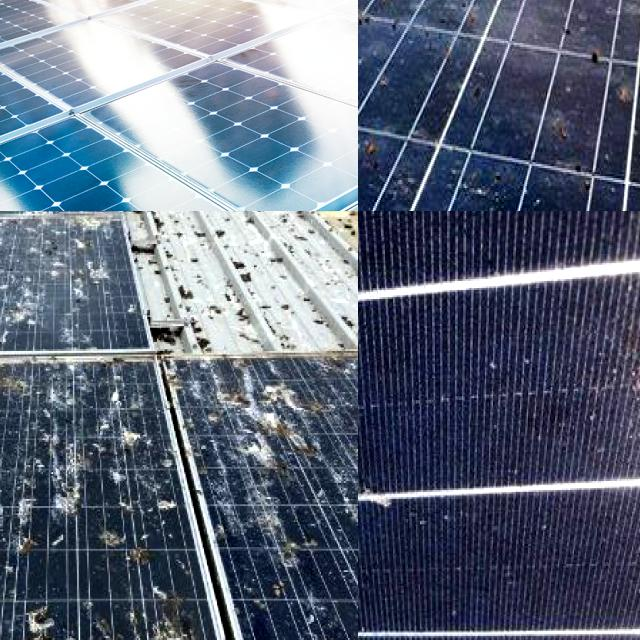bird: (358, 376, 485, 585), (240, 377, 343, 464), (579, 4, 640, 107), (545, 0, 640, 62), (358, 89, 408, 201), (358, 0, 447, 52), (451, 0, 513, 74), (100, 392, 162, 440), (358, 0, 415, 48), (46, 468, 90, 530), (0, 385, 39, 453), (95, 522, 148, 570), (256, 540, 298, 600), (0, 369, 25, 438), (0, 459, 25, 525), (105, 624, 206, 640), (26, 605, 72, 640), (142, 488, 184, 526), (0, 596, 33, 640), (358, 1, 393, 42), (0, 533, 19, 596), (551, 0, 621, 17), (0, 604, 32, 640), (0, 608, 22, 640)
crack: (66, 20, 358, 211), (0, 0, 210, 149), (0, 124, 308, 211), (0, 29, 108, 191)
